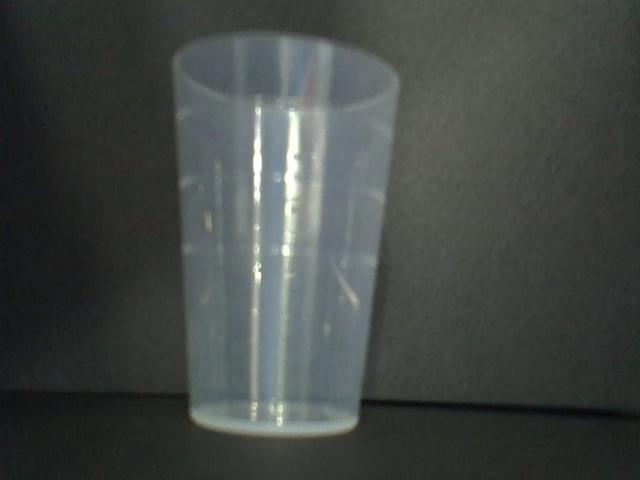cup: (168, 29, 403, 441)
